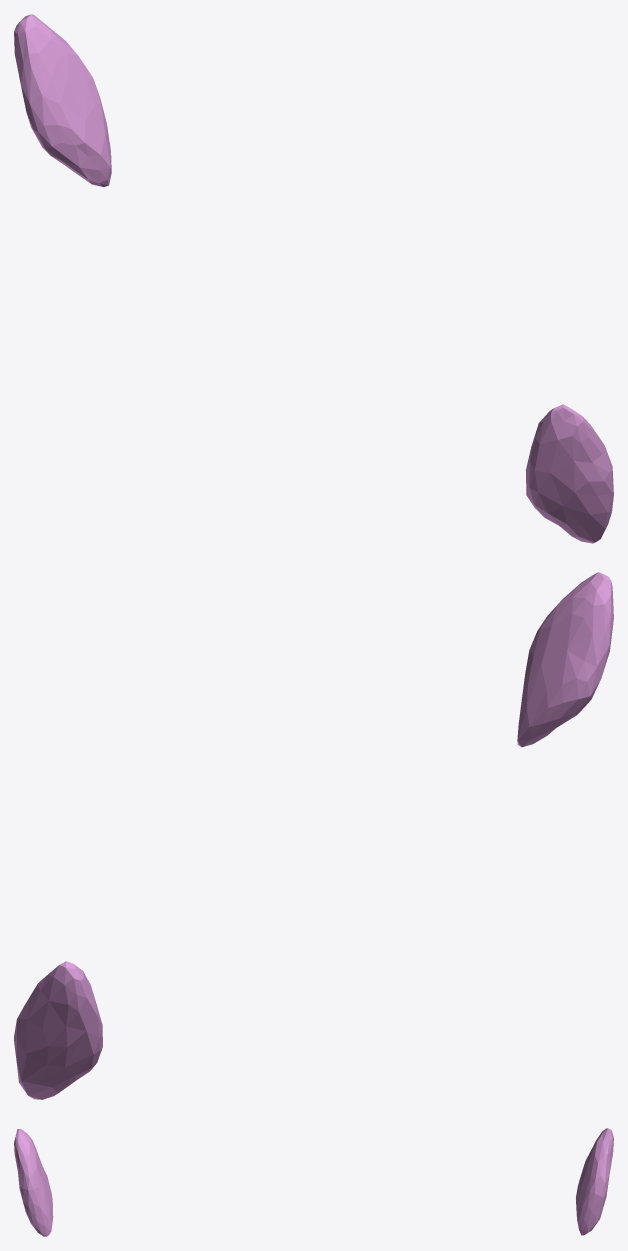
3 renders of one model, top to bottom at view 1: azimuth 30°, elevation 25°; view 2: azimuth 150°, elevation 25°; view 3: azimuth 270°, elevation 25°, orthographic. The views are drawn at different scales.
Visible parts, largest first — view 1: 580.obj; view 2: 580.obj; view 3: 580.obj.
Boxes of the visible parts, x1,y1,x2,y2 form: 580.obj: (14, 14, 613, 543); 580.obj: (14, 572, 613, 1099); 580.obj: (14, 1128, 613, 1236).
Bounding box in the file's own units: 396 × 776 × 4491.
